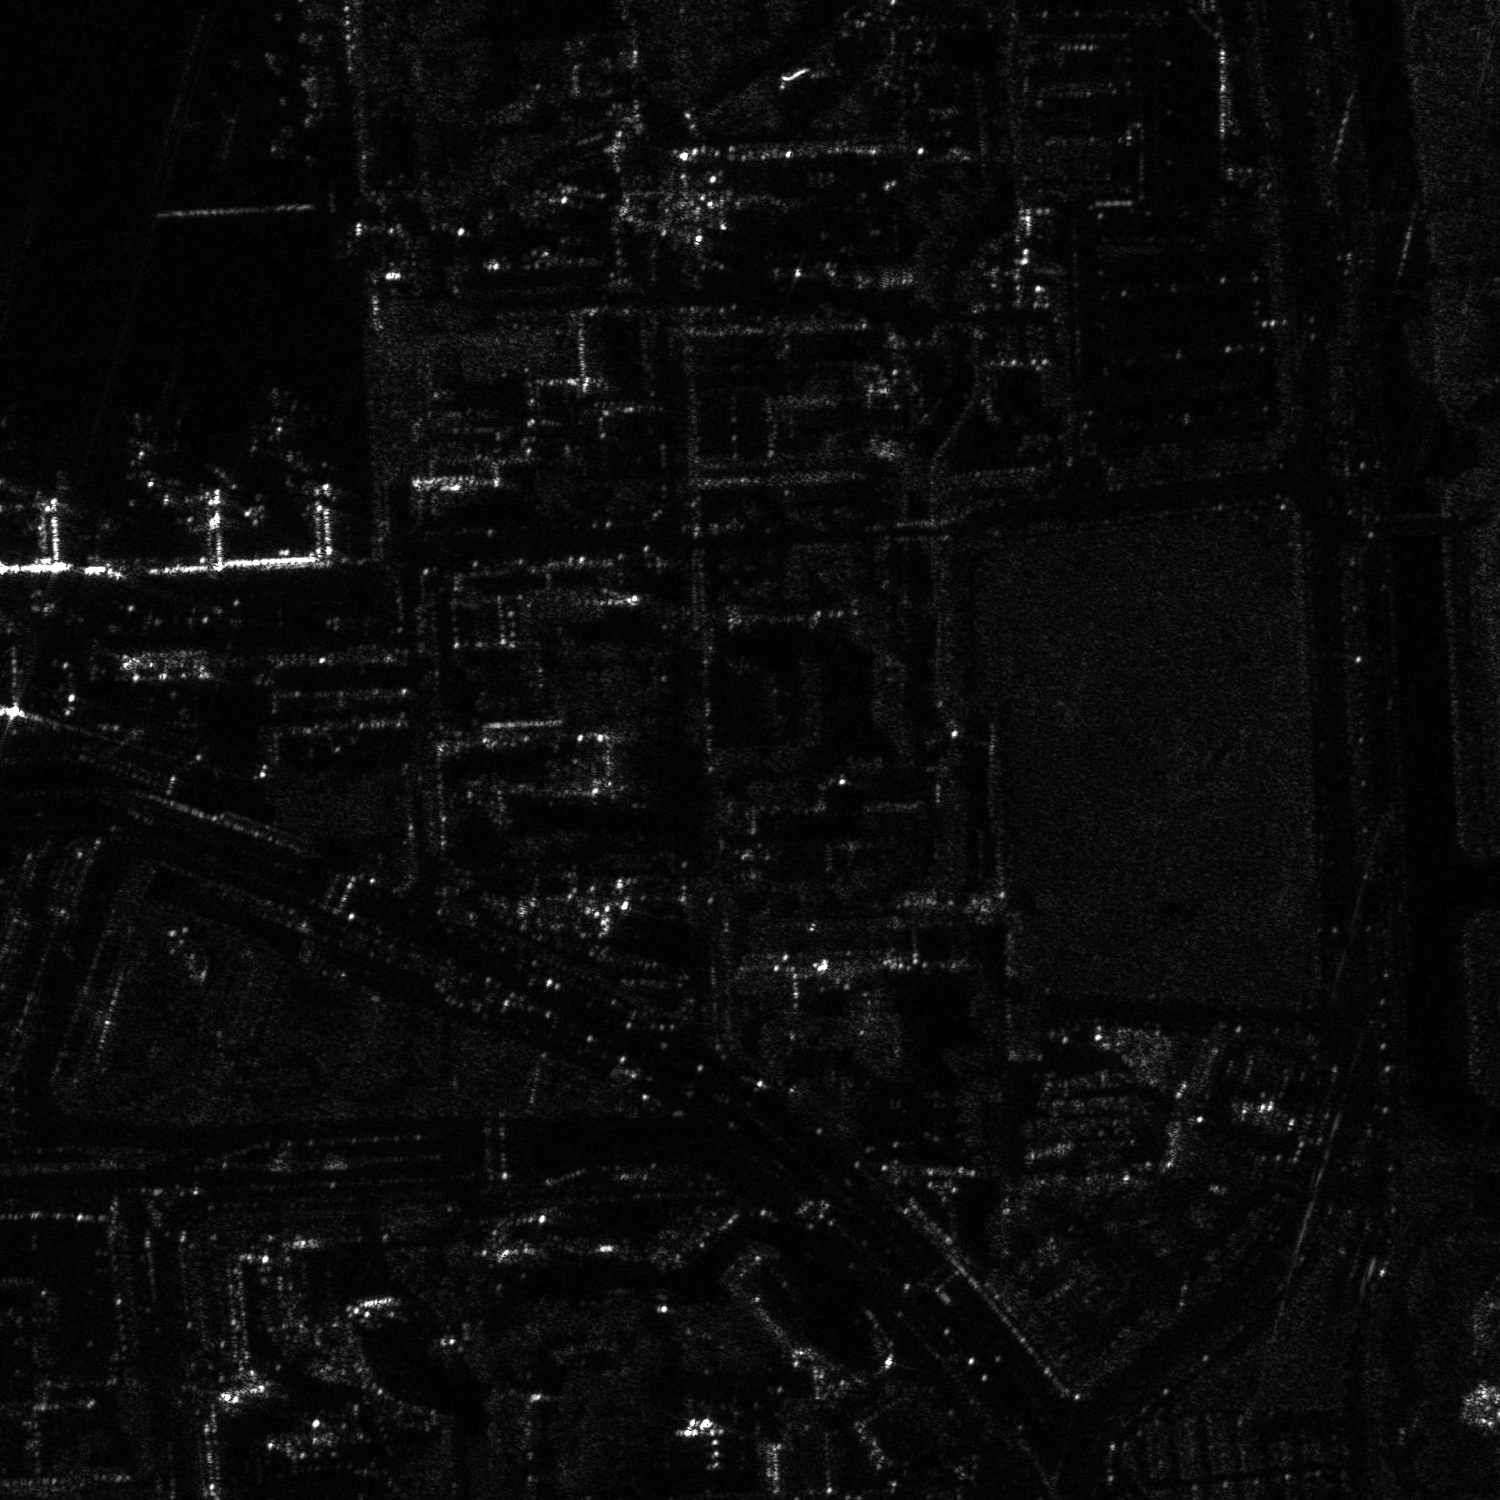A220: (236, 387, 330, 446)
Boeing787: (99, 402, 199, 467)
other: (161, 85, 247, 166)
